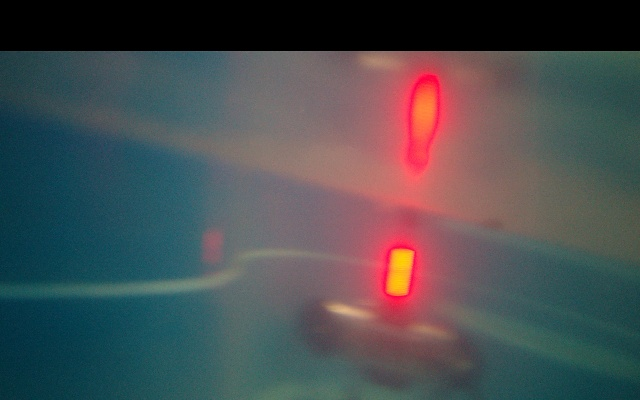red: (385, 250, 412, 300)
